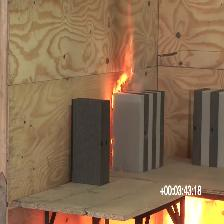fire: (112, 0, 134, 92)
